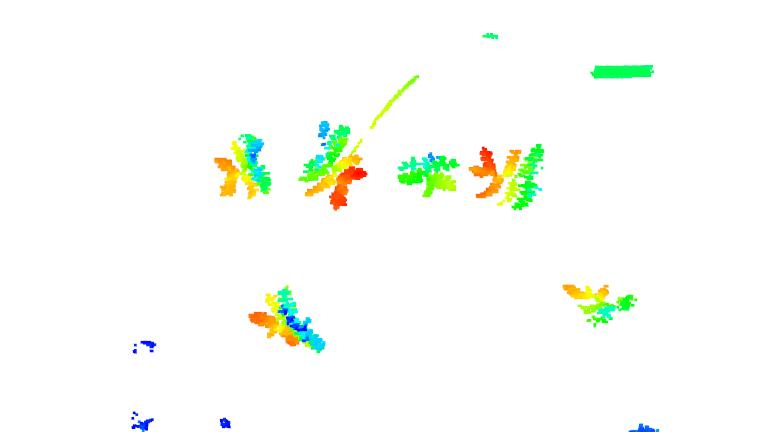chickpea: (296, 119, 367, 212), (245, 282, 329, 358), (465, 143, 551, 212), (208, 131, 275, 201), (562, 279, 641, 327), (396, 151, 461, 200)
